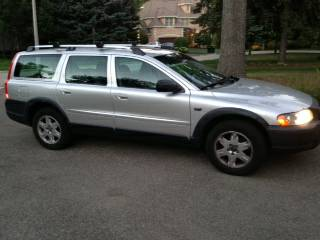volvo: (1, 39, 320, 178)
